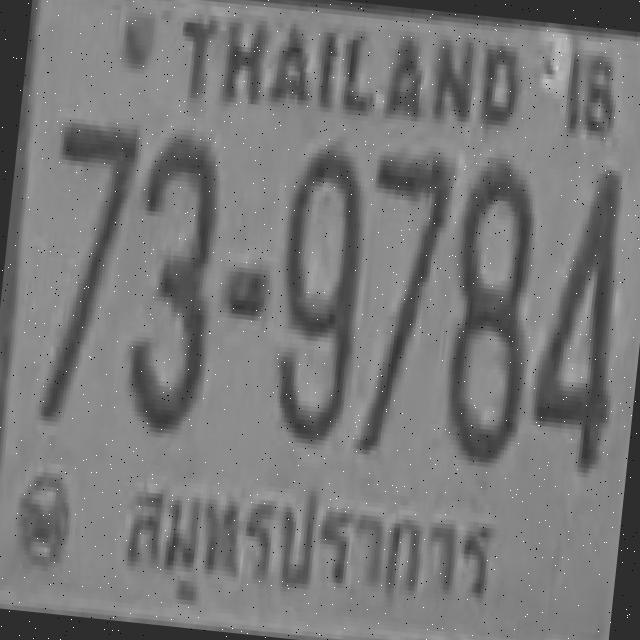3: (116, 128, 225, 429)
4: (526, 160, 632, 470)
7: (30, 116, 139, 422), (346, 148, 452, 452), (352, 147, 451, 383), (39, 115, 140, 341)
8: (436, 154, 542, 460)
9: (264, 141, 370, 442)
SamutPrakan: (110, 457, 503, 619)
